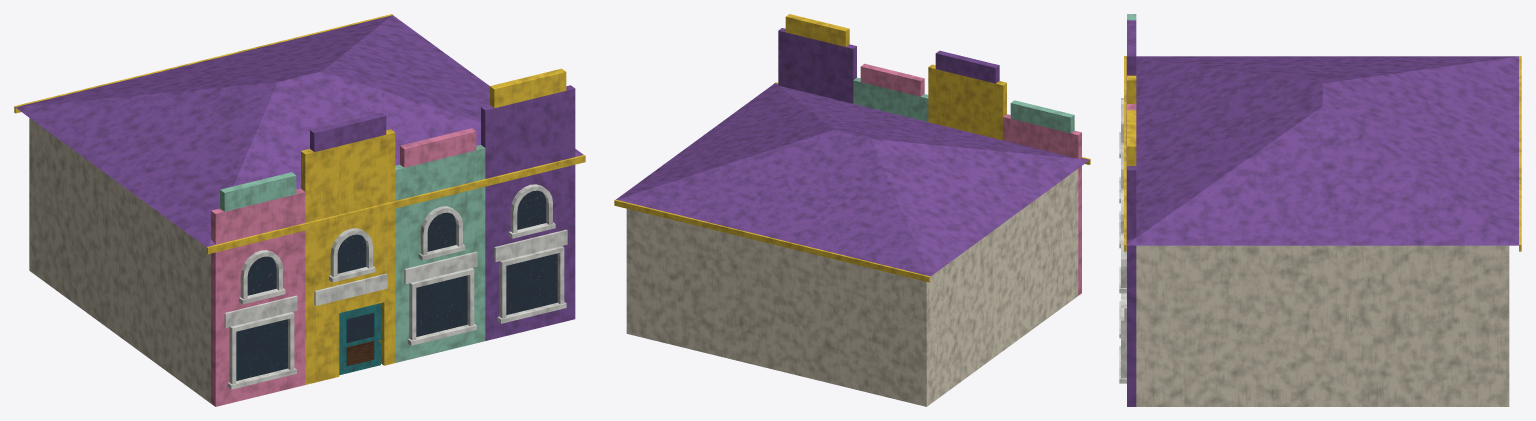
File: Bld_MapleShop.fbx
The picture shows the model from 3 angles, left to right: view 1: azimuth 30°, elevation 25°; view 2: azimuth 150°, elevation 25°; view 3: azimuth 270°, elevation 25°; orthographic projection. The views are drawn at different scales.
Visible parts, largest first — view 1: Roof, Walls_Shop, Front_4, Front_2, Front_1, Front_3, Door_MapleShop; view 2: Walls_Shop, Roof, Front_2, Front_4, Front_1, Front_3; view 3: Roof, Walls_Shop, Front_4, Front_2.
Part boxes in pixels (<box>): Roof: <box>14,14,585,254</box>; Walls_Shop: <box>29,118,210,403</box>; Front_4: <box>481,68,575,340</box>; Front_2: <box>301,112,395,384</box>; Front_1: <box>211,172,305,406</box>; Front_3: <box>395,128,485,362</box>; Door_MapleShop: <box>339,303,380,375</box>; Walls_Shop: <box>626,169,1078,406</box>; Roof: <box>614,82,1090,282</box>; Front_2: <box>928,50,1006,140</box>; Front_4: <box>778,14,856,103</box>; Front_1: <box>1003,100,1081,295</box>; Front_3: <box>853,63,928,121</box>; Roof: <box>1124,56,1521,251</box>; Walls_Shop: <box>1136,245,1509,406</box>; Front_4: <box>1119,110,1136,406</box>; Front_2: <box>1119,20,1136,203</box>.
Bounding box in the file's own units: 16.8 × 10.6 × 15.09.
